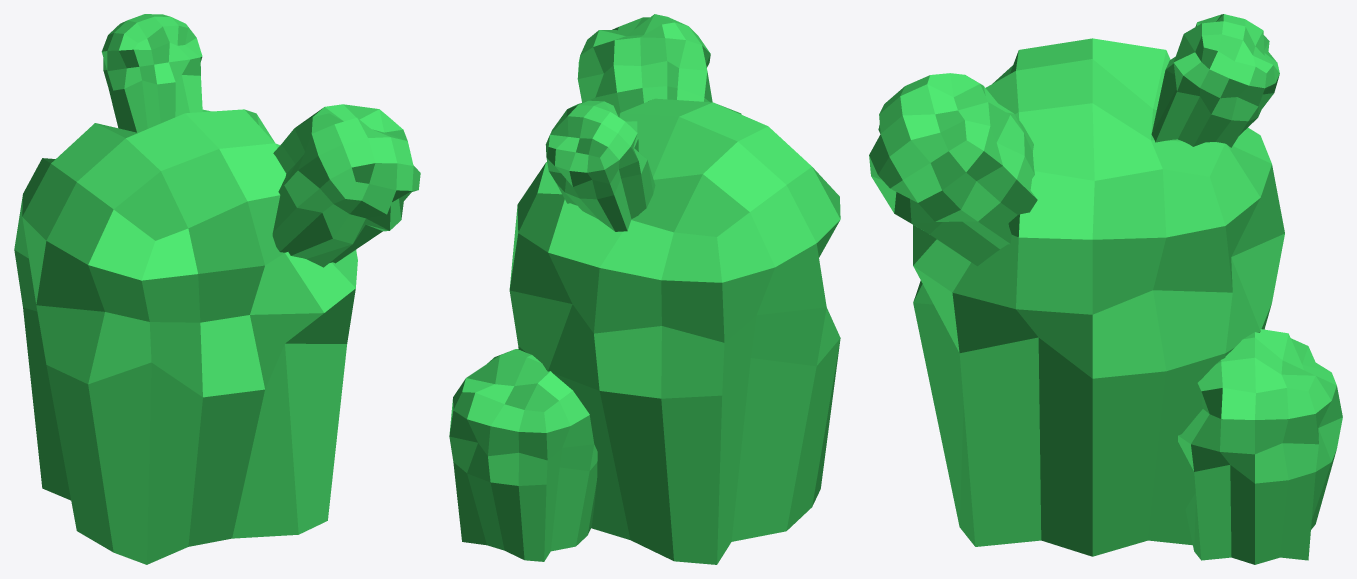
File: mariomoSHOP.fbx
3 views of the same model, side by side, from view 1: azimuth 30°, elevation 25°; view 2: azimuth 150°, elevation 25°; view 3: azimuth 270°, elevation 25° (orthographic). The views are drawn at different scales.
Parts seen in each view (by area): view 1: Cube.003; view 2: Cube.003; view 3: Cube.003.
Part boxes in pixels (x1,y1,x2,y2): Cube.003: (14,14,420,564); Cube.003: (449,14,840,564); Cube.003: (869,14,1342,564).
Size of the model in its own units: 3024 by 4111 by 3593.
